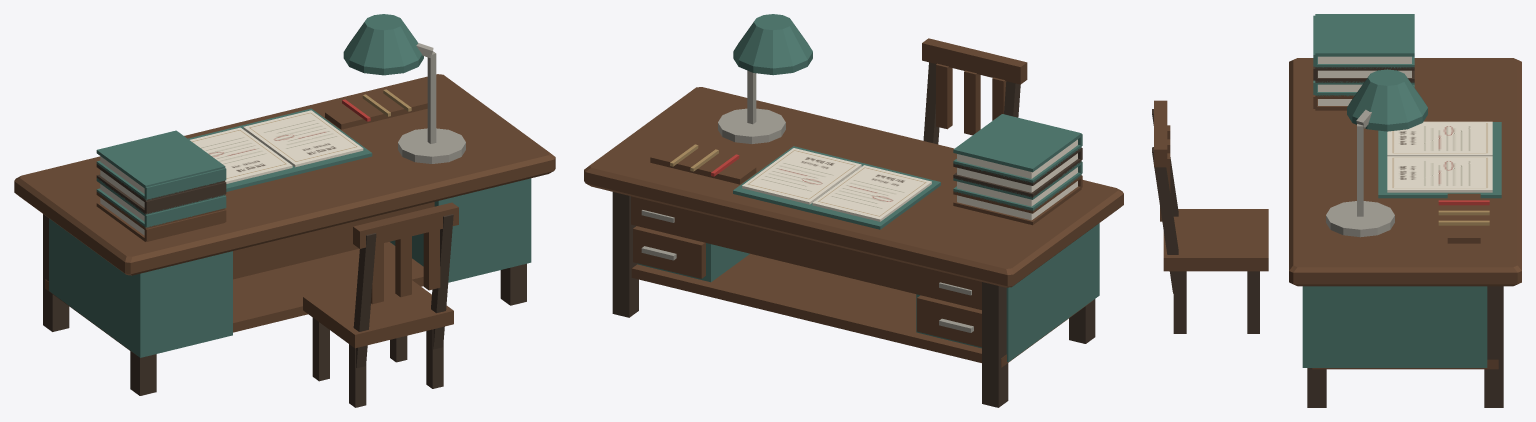
The model's file is N05_Translation_Workstation.fbx.
3 renders of one model, left to right at view 1: azimuth 30°, elevation 25°; view 2: azimuth 150°, elevation 25°; view 3: azimuth 270°, elevation 25°, orthographic.
Parts seen in each view (by area): view 1: Structure, Chair, Dictionaries, Translation_Pages, Desk_Lamp; view 2: Structure, Dictionaries, Translation_Pages, Chair, Desk_Lamp; view 3: Structure, Chair, Translation_Pages, Dictionaries, Desk_Lamp.
Boxes of the visible parts, bbox=[...] form: Structure: bbox=[14, 74, 555, 395]; Chair: bbox=[303, 202, 458, 407]; Dictionaries: bbox=[96, 130, 226, 241]; Translation_Pages: bbox=[188, 108, 372, 191]; Desk_Lamp: bbox=[343, 14, 465, 163]; Structure: bbox=[584, 87, 1123, 407]; Dictionaries: bbox=[953, 114, 1082, 225]; Translation_Pages: bbox=[733, 146, 940, 229]; Chair: bbox=[922, 38, 1027, 144]; Desk_Lamp: bbox=[718, 14, 812, 143]; Structure: bbox=[1289, 58, 1521, 407]; Chair: bbox=[1152, 100, 1268, 333]; Translation_Pages: bbox=[1378, 121, 1501, 198]; Dictionaries: bbox=[1313, 14, 1414, 110]; Desk_Lamp: bbox=[1326, 69, 1427, 237].
Bounding box in the file's own units: 3.35 × 2.05 × 2.46.
8 materials, 1 textured.
